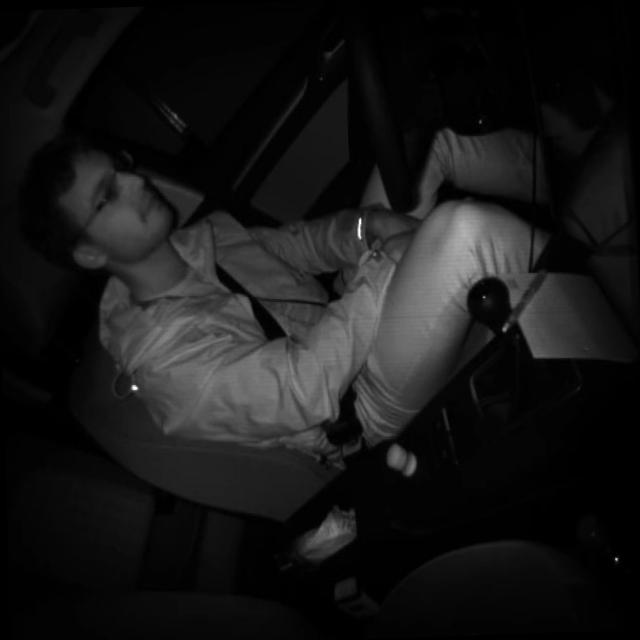pen: (496, 267, 553, 335)
